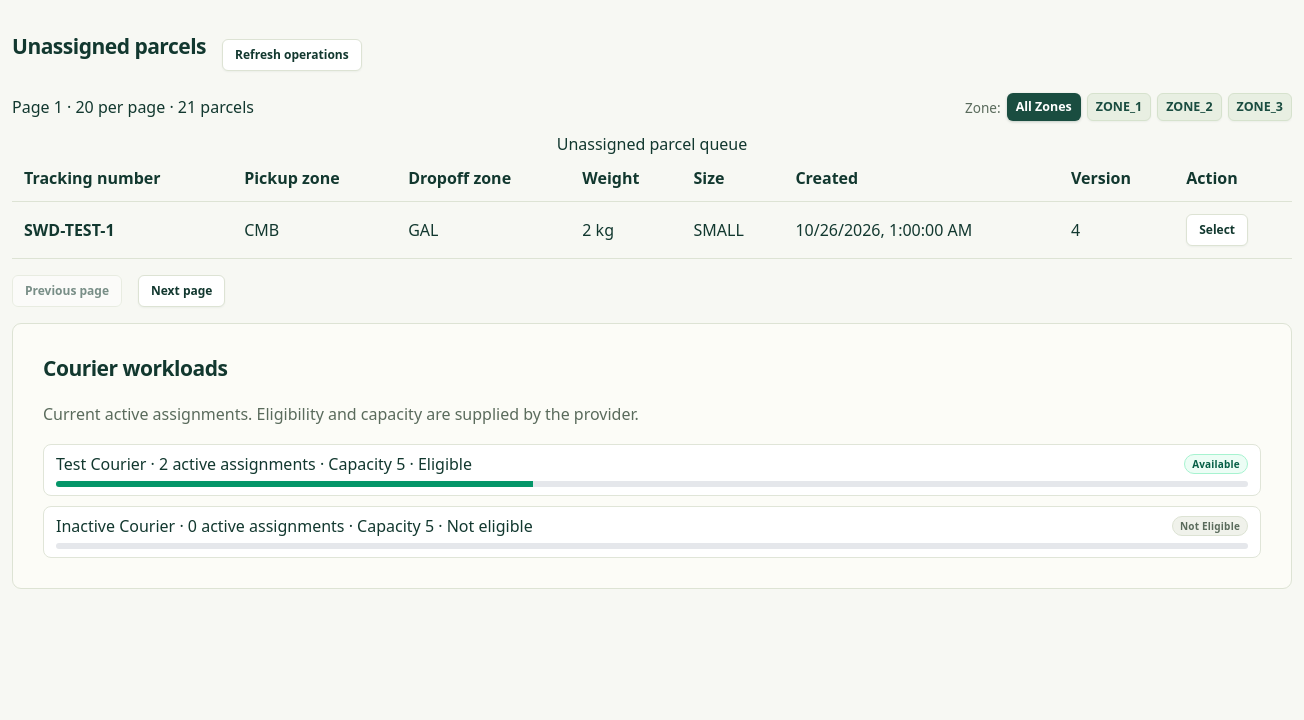
Scenario: Dispatcher operations › clears selection on cancel without submitting
The width and height of the screenshot is (1304, 720).
Click the button with aria-label "Select SWD-TEST-1" at {"x": 1217, "y": 230}, box x1=1186 y1=214 x2=1248 y2=246
(page scrolled)
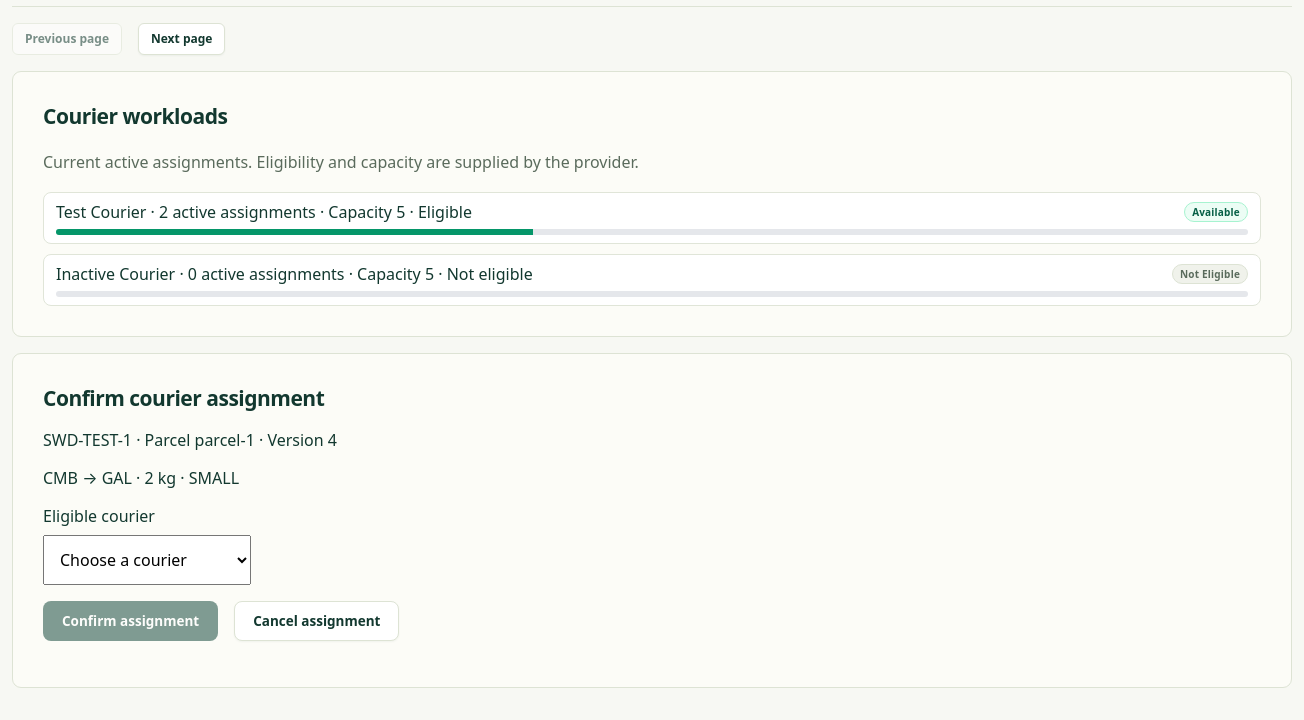
Select "Test Courier (2 active)" in the dropdown labelled "Eligible courier" at {"x": 147, "y": 560}, box x1=43 y1=535 x2=251 y2=585
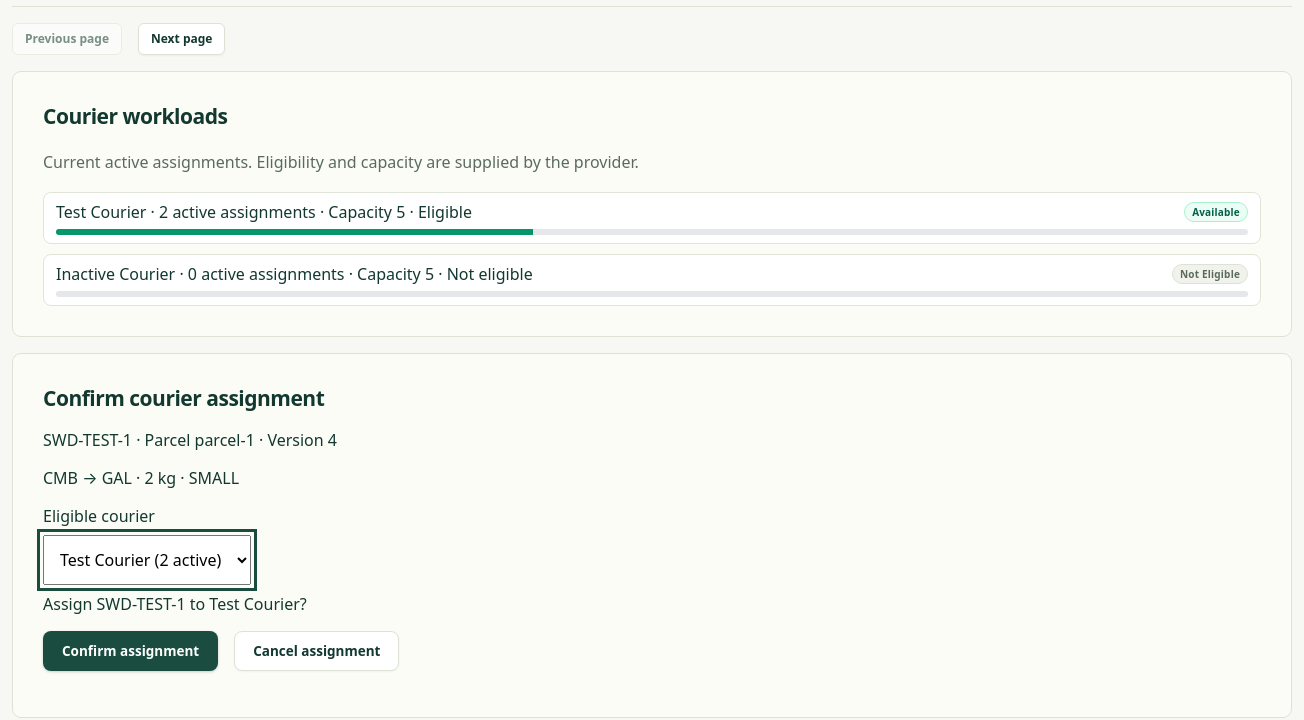
Click the button "Cancel assignment" at {"x": 317, "y": 651}, box x1=234 y1=631 x2=399 y2=671
(page scrolled)
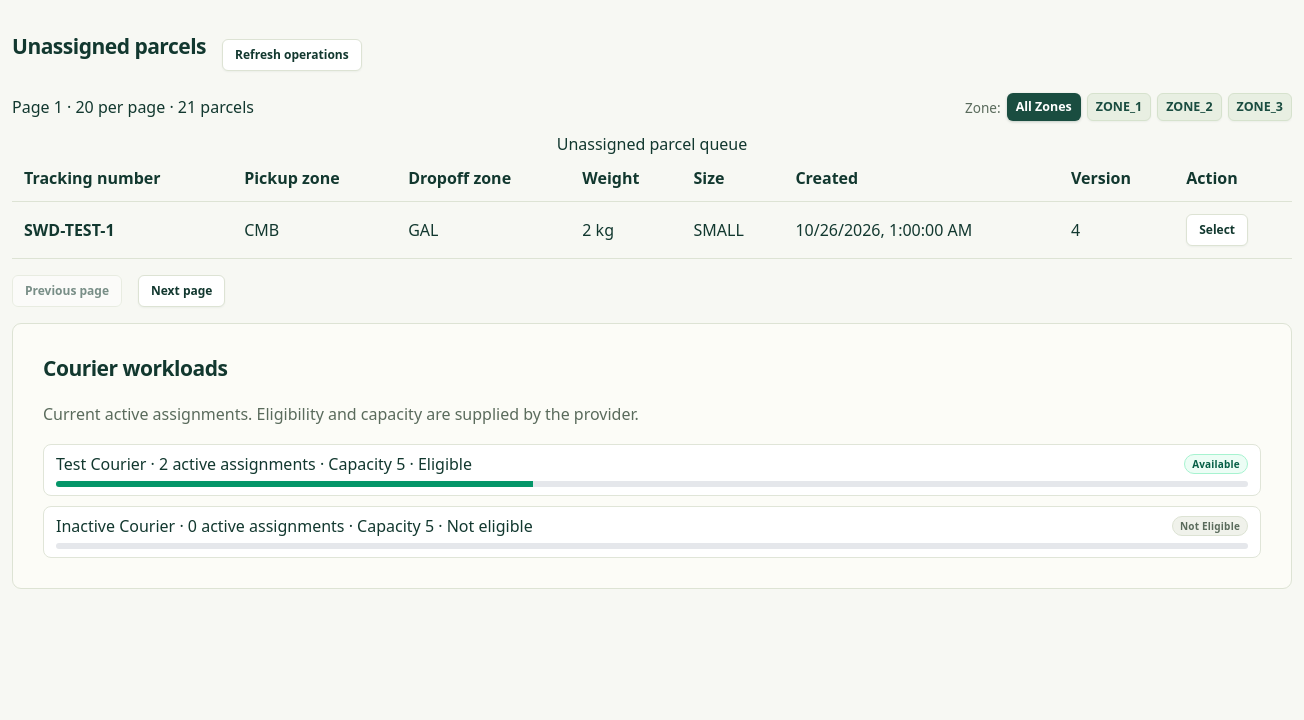
Result: the label labelled "Eligible courier" is gone
